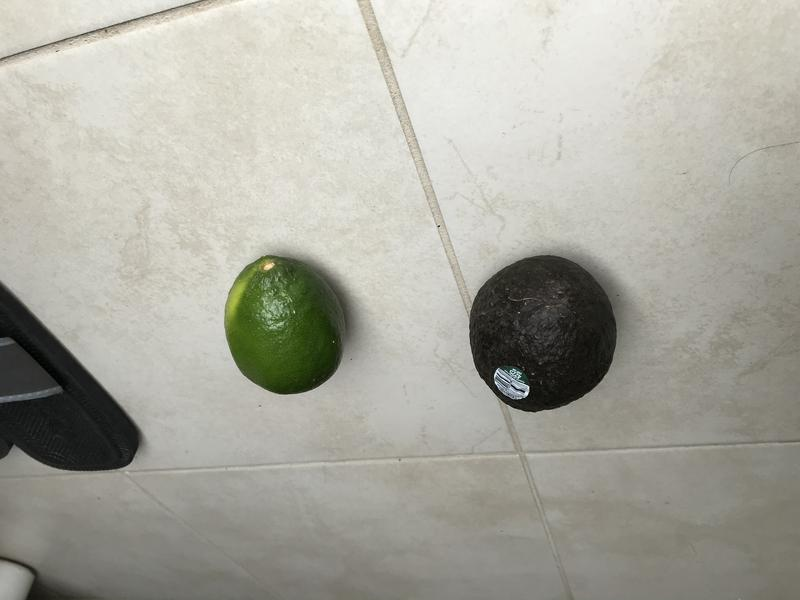avocado: (463, 249, 630, 424)
lime: (213, 250, 360, 407)
